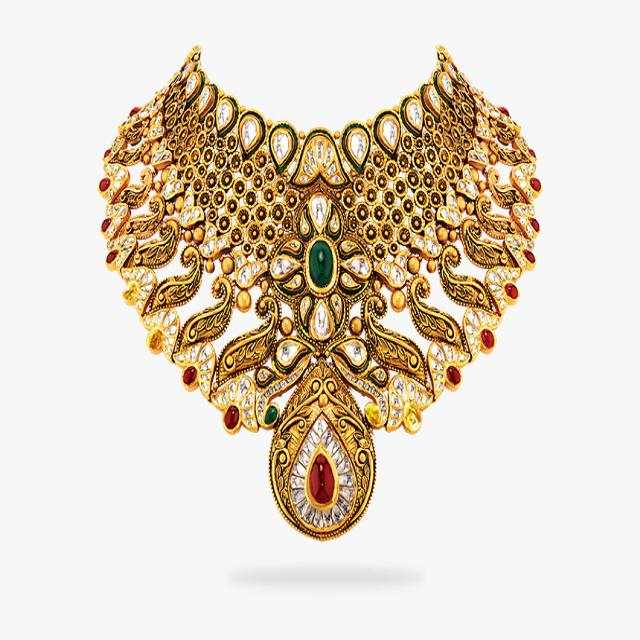missing gem: (405, 405, 420, 430), (367, 404, 380, 425), (149, 328, 162, 349), (125, 283, 137, 300)
